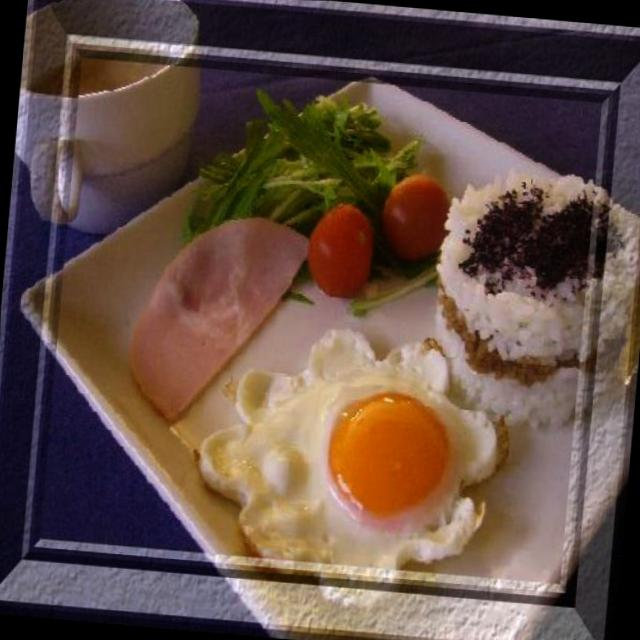Egg: (224, 321, 513, 573)
